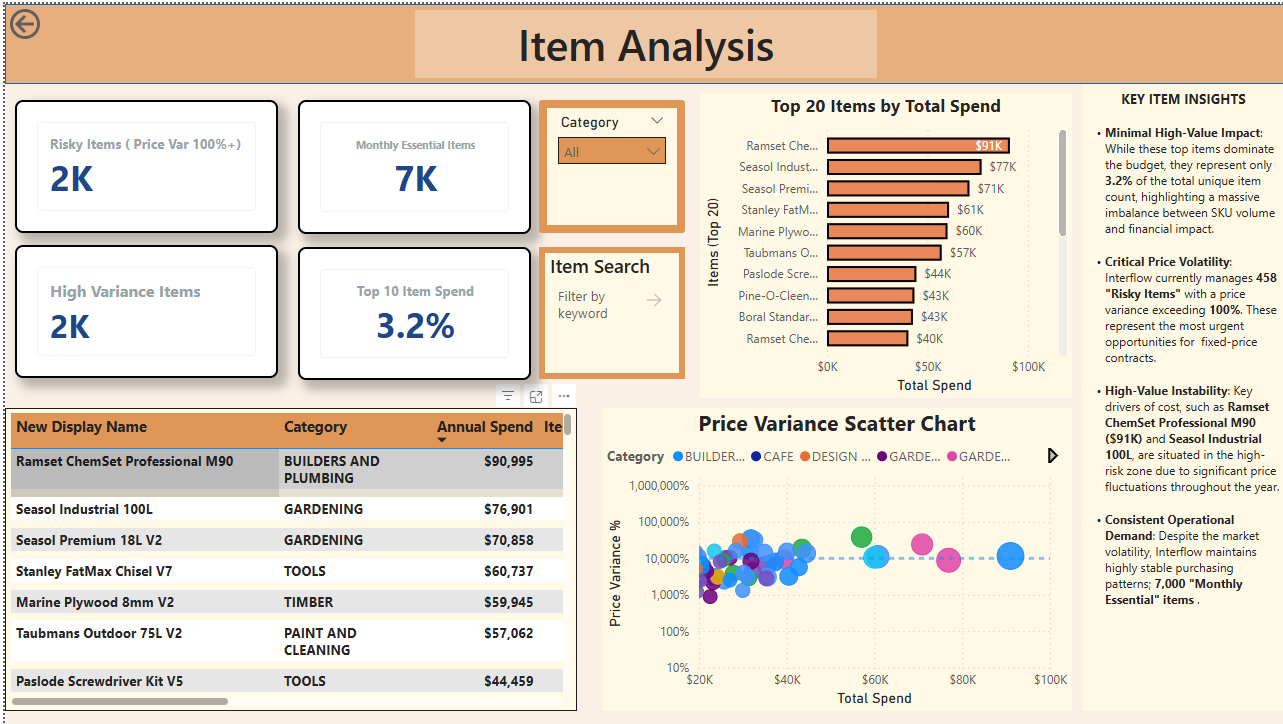

This screenshot's page, from the dashboard's own definition file:
{"tool":"powerbi","page":{"name":"Item Analysis","canvas":[1280,720],"ordinal":3},"visuals":[{"type":"shape","box":[0,0,1280,80],"z":0},{"type":"textbox","box":[409.8,5.8,461.8,67.8],"z":1000},{"type":"cardVisual","title":"States co","fields":{"Data":["_Measures.High-Risk Monthly Items"]},"box":[10.3,96.3,263.2,132.2],"z":2000},{"type":"cardVisual","fields":{"Data":["_Measures.High Variance Items"]},"box":[10.3,241.4,263.2,132.2],"z":3000},{"type":"cardVisual","fields":{"Data":["_Measures.Monthly Essential Items"]},"box":[292.7,96.3,233.7,133.5],"z":4000},{"type":"tableEx","fields":{"Values":["Item_Mapping.New Display Name","Fact_Purchases.Category","_Measures.Total Spend","_Measures.Item Priority Score","_Measures.Price Consistency Alert","_Measures.Action Required","_Measures.Total Quantity","_Measures.Min Unit Price","_Measures.Max Unit Price","_Measures.Avg Unit Price","_Measures.Price Variance %","_Measures.Months Purchased"]},"box":[0,404.2,571.8,302.3],"z":5000},{"type":"cardVisual","fields":{"Data":["_Measures.Top 10 Item Spend"]},"box":[292.7,242.6,233.7,133.5],"z":6000},{"type":"scatterChart","title":"Price Variance Scatter Chart","fields":{"X":["_Measures.Total Spend"],"Y":["_Measures.Price Variance %"],"Size":["_Measures.Total Quantity"],"Series":["Dim_Items.Category"],"Category":["Item_Mapping.New Display Name"]},"box":[597.1,404.3,470,302.9],"z":7000},{"type":"slicer","fields":{"Values":["Fact_Purchases.Category"]},"box":[534.1,96.3,146.4,132.2],"z":8000},{"type":"textbox","box":[1077.1,81.4,202.9,625.7],"z":9000},{"type":"clusteredBarChart","title":"Top 20 Items by Total Spend","fields":{"Y":["_Measures.Total Spend"],"Category":["Item_Mapping.New Display Name"]},"box":[694.6,88.6,372.3,305.6],"z":10000},{"type":"actionButton","box":[0,0,100,40],"z":11000},{"type":"textSlicer","title":"Item Search","fields":{"Values":["Item_Mapping.New Display Name"]},"box":[534.1,242.6,146.4,132.2],"z":12000}]}

Visuals, with their boxes in screenshot pixels (x1, y1, x2, y2), scaled from the page's 1280x720 canvas onto the 1283x724 screenshot:
shape: (0, 0, 1282, 80)
textbox: (411, 6, 874, 74)
"States co" cardVisual: (10, 97, 274, 230)
cardVisual - _Measures.High Variance Items: (10, 243, 274, 376)
cardVisual - _Measures.Monthly Essential Items: (293, 97, 528, 231)
tableEx - Item_Mapping.New Display Name x Fact_Purchases.Category: (0, 406, 573, 710)
cardVisual - _Measures.Top 10 Item Spend: (293, 244, 528, 378)
"Price Variance Scatter Chart" scatterChart: (598, 407, 1070, 711)
slicer - Fact_Purchases.Category: (535, 97, 682, 230)
textbox: (1080, 82, 1282, 711)
"Top 20 Items by Total Spend" clusteredBarChart: (696, 89, 1069, 396)
actionButton: (0, 0, 100, 40)
"Item Search" textSlicer: (535, 244, 682, 377)
